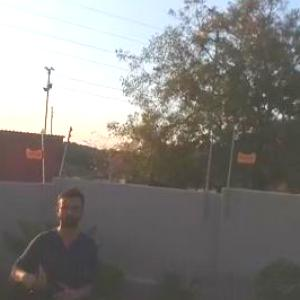follow: (4, 181, 113, 299)
